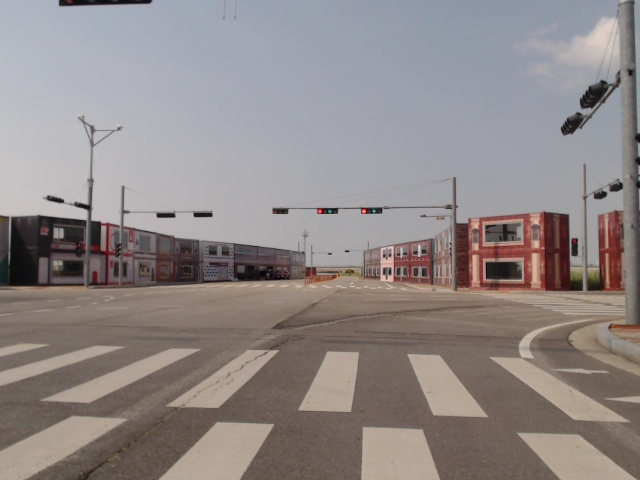left_green_4: (362, 208, 382, 214), (318, 209, 338, 214)
